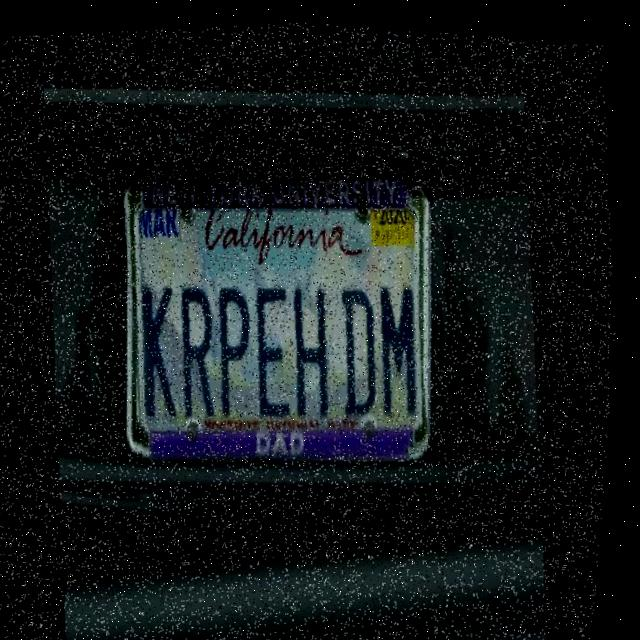LicensePlate: (106, 133, 451, 481)
